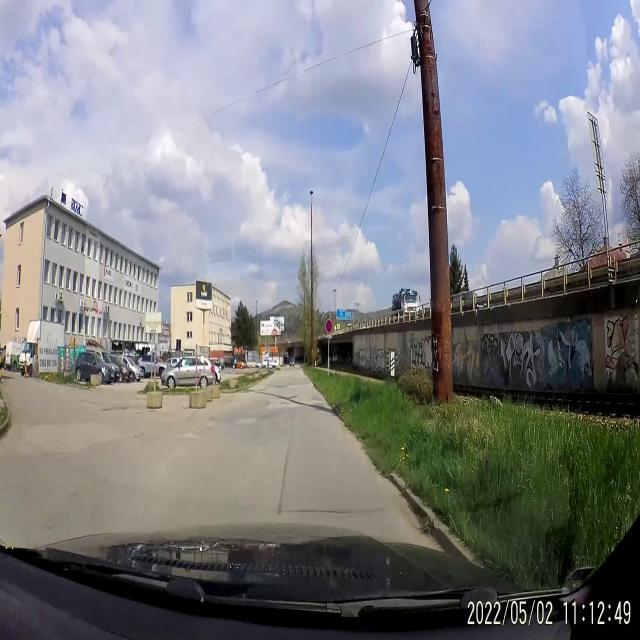Pothole: (100, 404, 128, 414)
